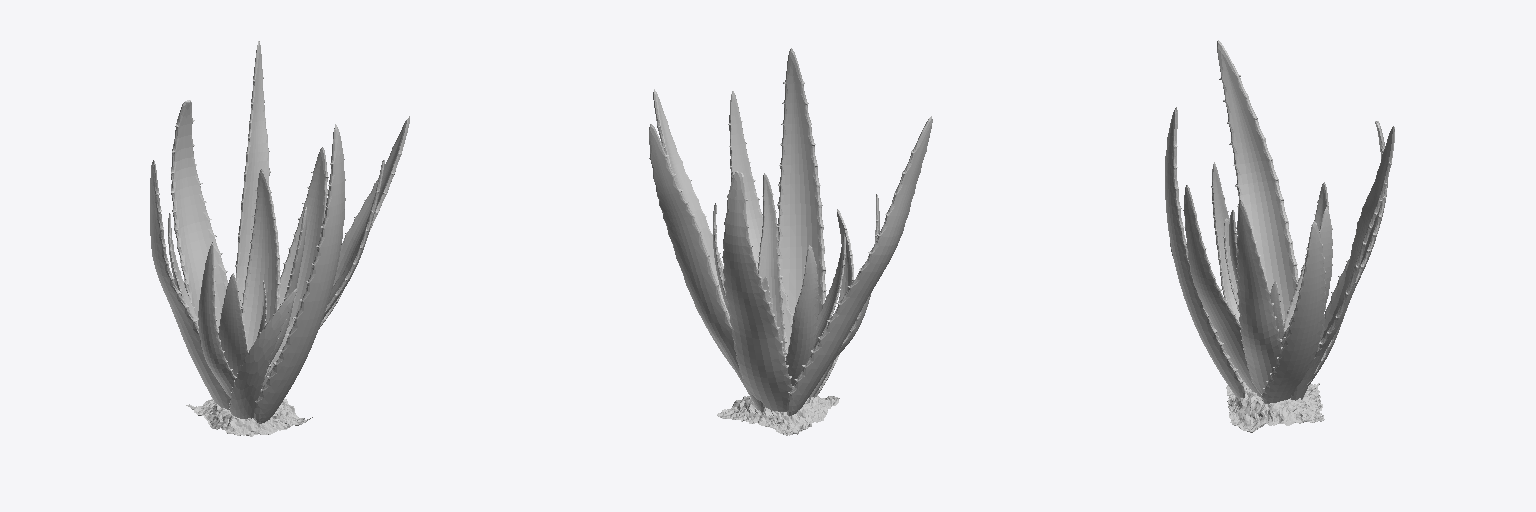
Rendered from Aloe vera.obj.
The picture shows the model from 3 angles: view 1: azimuth 30°, elevation 25°; view 2: azimuth 150°, elevation 25°; view 3: azimuth 270°, elevation 25°; orthographic projection.
Visible parts, largest first — view 1: Arch41_014, Arch41_047, Arch41_012, Arch41_048, Arch41_015, Arch41_049, Arch41_045, Arch41_044, Arch41_043, Arch41_040, Arch41_013, Arch41_042 (+2 smaller); view 2: Arch41_047, Arch41_014, Arch41_015, Arch41_048, Arch41_042, Arch41_011, Arch41_040, Arch41_010, Arch41_043, Arch41_013, Arch41_045; view 3: Arch41_015, Arch41_043, Arch41_049, Arch41_014, Arch41_042, Arch41_048, Arch41_040, Arch41_047, Arch41_044, Arch41_012, Arch41_011.
Boxes of the visible parts, x1=… form: Arch41_014: x1=254, y1=124, x2=345, y2=423; Arch41_047: x1=171, y1=100, x2=227, y2=332; Arch41_012: x1=240, y1=169, x2=280, y2=376; Arch41_048: x1=235, y1=41, x2=270, y2=307; Arch41_015: x1=150, y1=160, x2=229, y2=409; Arch41_049: x1=279, y1=147, x2=328, y2=325; Arch41_045: x1=229, y1=289, x2=296, y2=418; Arch41_044: x1=198, y1=242, x2=236, y2=397; Arch41_043: x1=268, y1=116, x2=409, y2=372; Arch41_040: x1=186, y1=398, x2=312, y2=436; Arch41_013: x1=218, y1=273, x2=248, y2=376; Arch41_042: x1=262, y1=160, x2=384, y2=387; Arch41_047: x1=722, y1=171, x2=793, y2=411; Arch41_014: x1=777, y1=48, x2=826, y2=318; Arch41_015: x1=787, y1=116, x2=932, y2=416; Arch41_048: x1=649, y1=124, x2=764, y2=410; Arch41_042: x1=728, y1=91, x2=793, y2=352; Arch41_011: x1=785, y1=245, x2=818, y2=385; Arch41_040: x1=717, y1=395, x2=839, y2=435; Arch41_010: x1=757, y1=173, x2=787, y2=357; Arch41_043: x1=653, y1=89, x2=729, y2=318; Arch41_013: x1=814, y1=234, x2=845, y2=347; Arch41_045: x1=809, y1=209, x2=853, y2=397; Arch41_015: x1=1217, y1=40, x2=1298, y2=323; Arch41_043: x1=1235, y1=200, x2=1281, y2=393; Arch41_049: x1=1260, y1=221, x2=1325, y2=403; Arch41_014: x1=1165, y1=107, x2=1244, y2=398; Arch41_042: x1=1183, y1=185, x2=1262, y2=398; Arch41_048: x1=1291, y1=126, x2=1394, y2=400; Arch41_040: x1=1226, y1=383, x2=1324, y2=432; Arch41_047: x1=1307, y1=121, x2=1387, y2=385; Arch41_044: x1=1211, y1=162, x2=1239, y2=322; Arch41_012: x1=1281, y1=207, x2=1332, y2=346; Arch41_011: x1=1283, y1=182, x2=1328, y2=329.
Size of the model in its own units: 16.23 by 18.96 by 12.11.